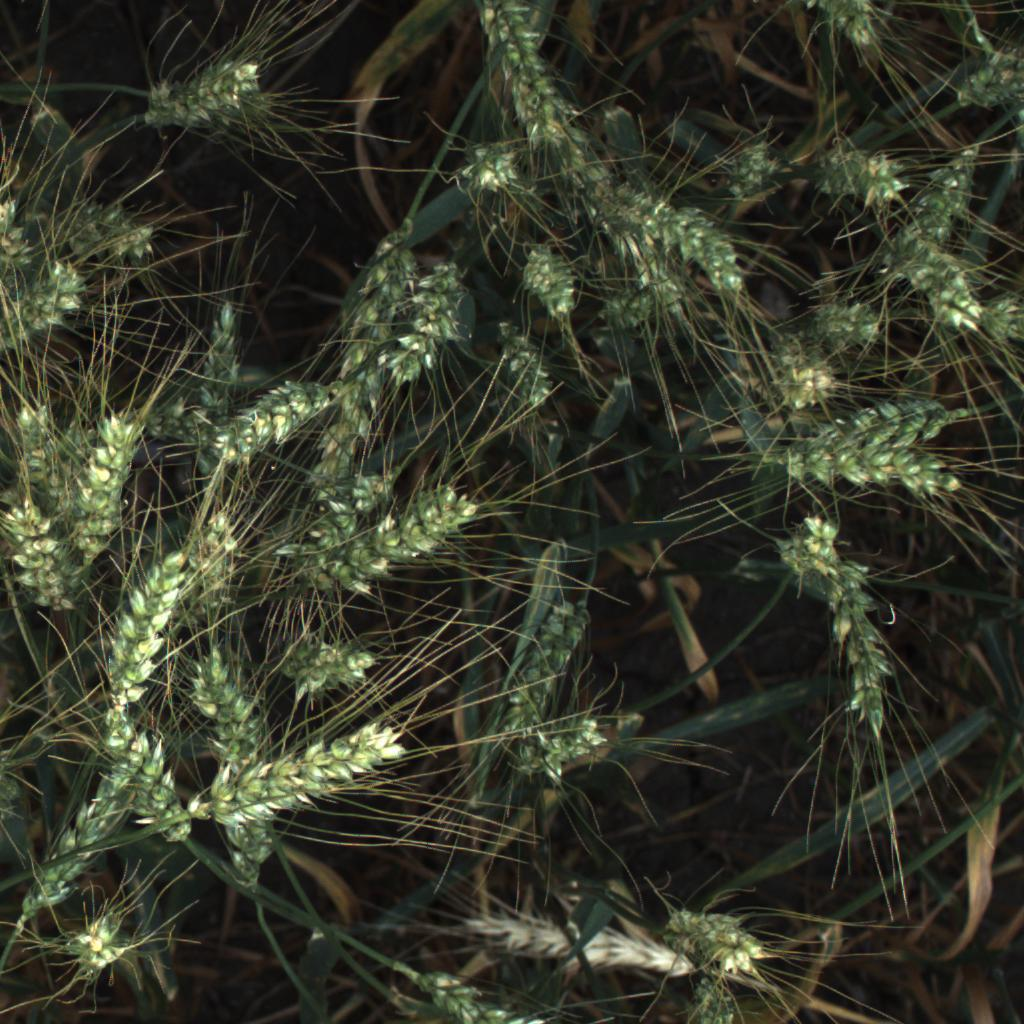0-0: (195, 717, 425, 860), (783, 516, 917, 737), (564, 148, 752, 297), (438, 888, 716, 982), (285, 481, 487, 610), (11, 743, 142, 938), (335, 212, 433, 451), (494, 572, 607, 763), (89, 543, 187, 735), (451, 0, 573, 151), (210, 360, 353, 470), (887, 135, 996, 275), (653, 889, 786, 1002), (602, 211, 717, 330), (68, 398, 144, 573), (286, 455, 406, 564), (380, 251, 471, 391), (134, 46, 273, 135), (3, 383, 91, 522), (106, 725, 193, 856), (892, 241, 989, 355), (794, 443, 973, 504), (806, 394, 967, 459), (926, 16, 1019, 126), (276, 616, 386, 709), (198, 301, 248, 505), (0, 496, 80, 613), (751, 0, 908, 59), (188, 626, 260, 754), (1, 258, 92, 357), (521, 704, 626, 789), (801, 138, 914, 214), (413, 971, 573, 1024), (486, 319, 560, 417), (762, 337, 845, 424), (50, 906, 140, 985), (508, 243, 584, 334), (803, 289, 884, 361), (196, 506, 245, 615), (727, 138, 789, 209), (456, 136, 519, 200), (102, 214, 163, 265), (146, 398, 214, 443), (984, 288, 1023, 358), (0, 190, 35, 267)
